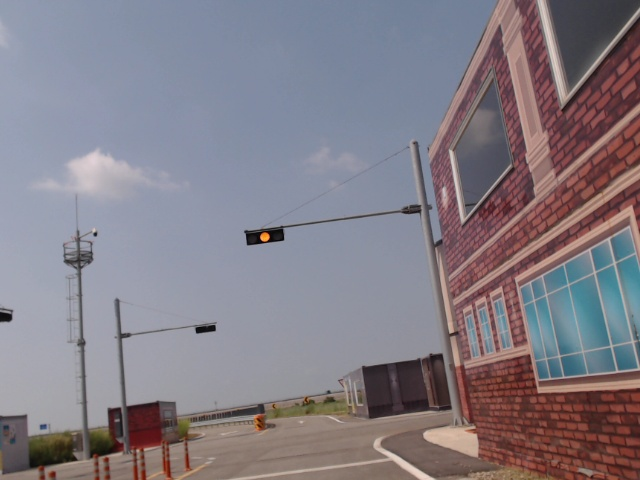orange_3: (244, 230, 286, 246)
